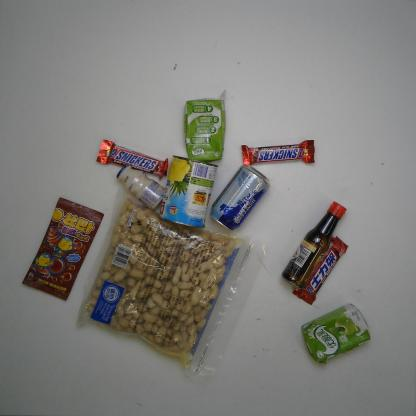Alcohol: (208, 163, 271, 233)
Candy: (20, 195, 104, 303)
Canned Food: (158, 153, 220, 230)
Chocolate: (290, 234, 350, 306), (95, 137, 170, 181), (240, 139, 317, 167)
Dried Food: (74, 186, 271, 387)
Milk: (300, 302, 374, 366), (183, 96, 227, 164), (115, 163, 167, 211)
Seasoner: (280, 200, 347, 291)
